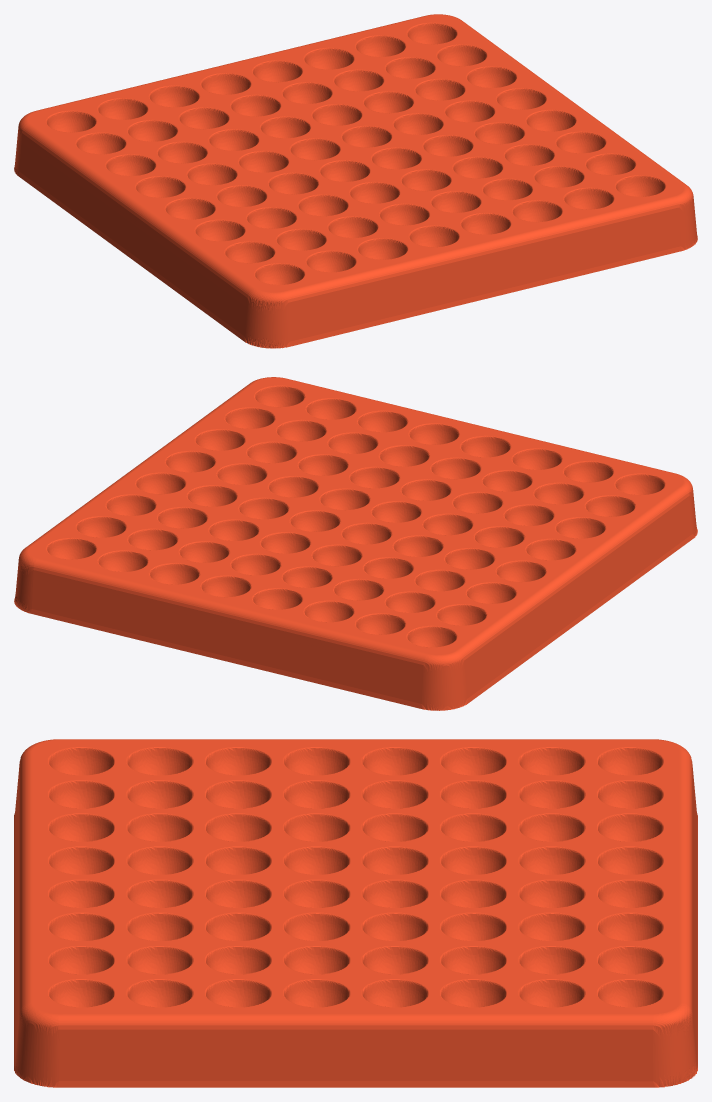
The model's file is mold.glb.
3 renders of one model, top to bottom at view 1: azimuth 30°, elevation 25°; view 2: azimuth 150°, elevation 25°; view 3: azimuth 270°, elevation 25°, orthographic. The views are drawn at different scales.
Parts seen in each view (by area): view 1: geometry_0; view 2: geometry_0; view 3: geometry_0.
Part boxes in pixels (box(x1,y1,x2,y2)): geometry_0: box(14, 14, 697, 348); geometry_0: box(14, 377, 697, 710); geometry_0: box(14, 739, 697, 1087).
Bounding box in the file's own units: 0.1355 × 0.0144 × 0.1355.
